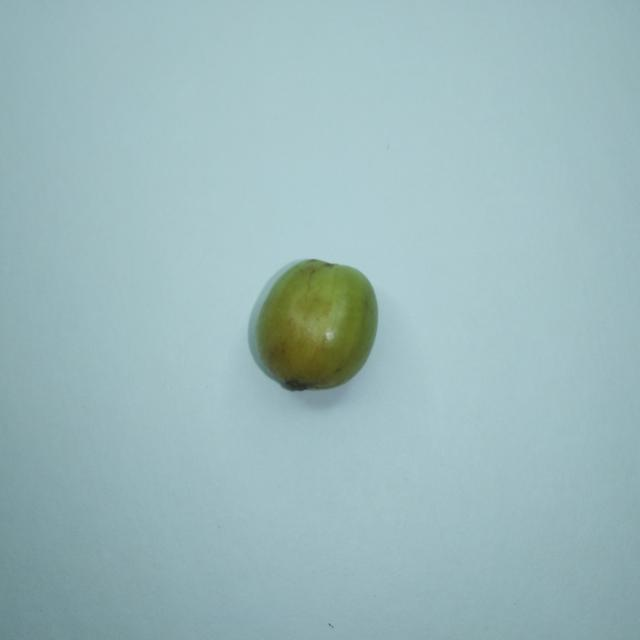Sano: (248, 259, 377, 390)
